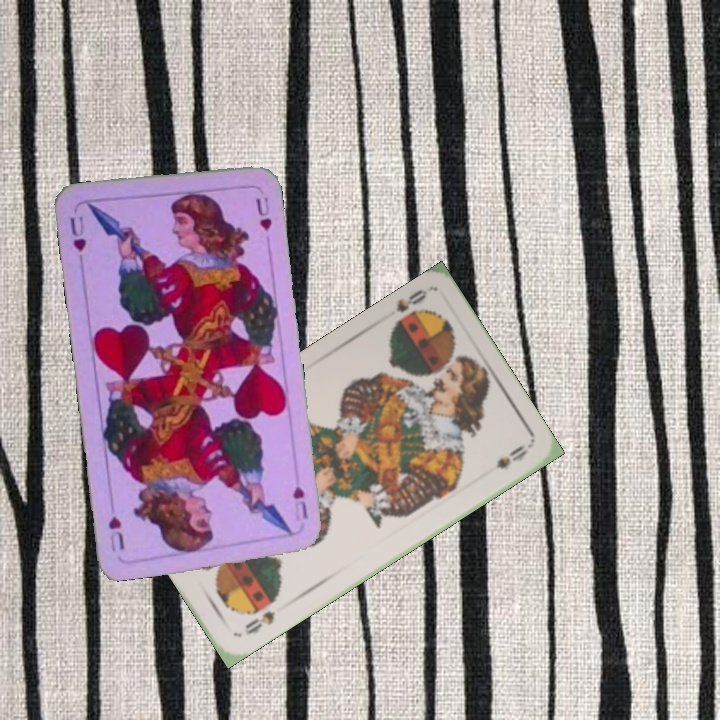HU: (65, 212, 89, 254), (289, 482, 310, 524)
SO: (391, 285, 430, 315), (241, 607, 278, 638)
